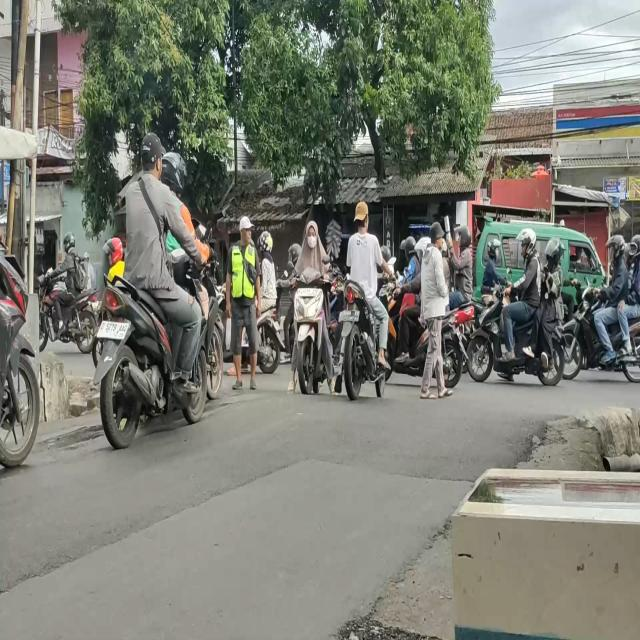helmet: (166, 154, 186, 189), (546, 242, 563, 264), (522, 230, 538, 253), (612, 236, 626, 262), (107, 241, 121, 264), (404, 238, 416, 258), (461, 227, 471, 251), (261, 233, 272, 254), (64, 234, 76, 252), (486, 240, 498, 258), (631, 234, 640, 257)
no-helmet: (139, 134, 161, 178), (354, 202, 369, 228), (306, 222, 318, 247)
